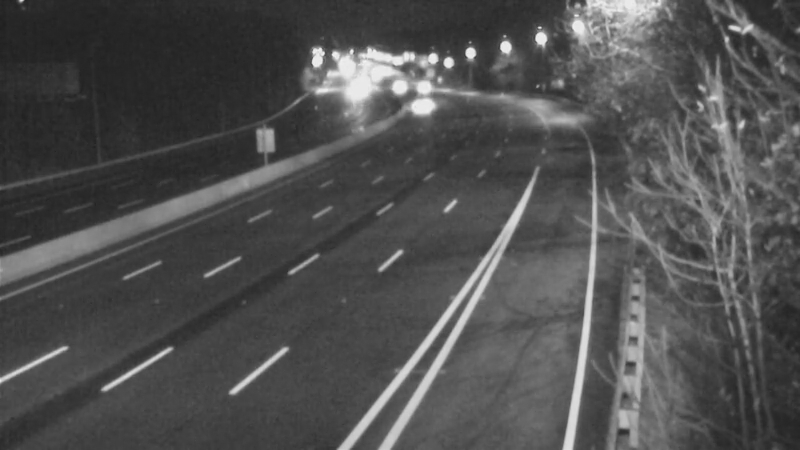vehicle: (400, 59, 450, 109), (371, 60, 421, 110), (401, 75, 451, 125), (333, 66, 383, 116)
